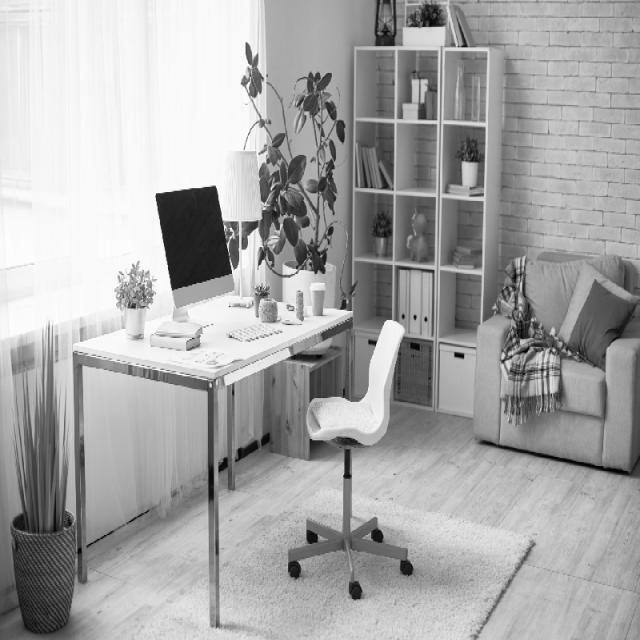table: (66, 274, 362, 456)
